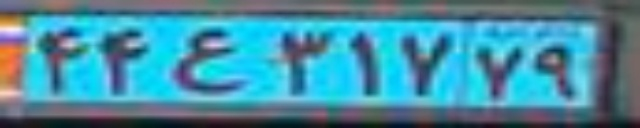1: (345, 31, 382, 96)
3: (273, 30, 336, 96)
4: (95, 26, 149, 96), (34, 26, 88, 94)
7: (398, 29, 460, 96), (474, 45, 524, 100)
9: (530, 44, 578, 102)
ain: (172, 28, 246, 93)
